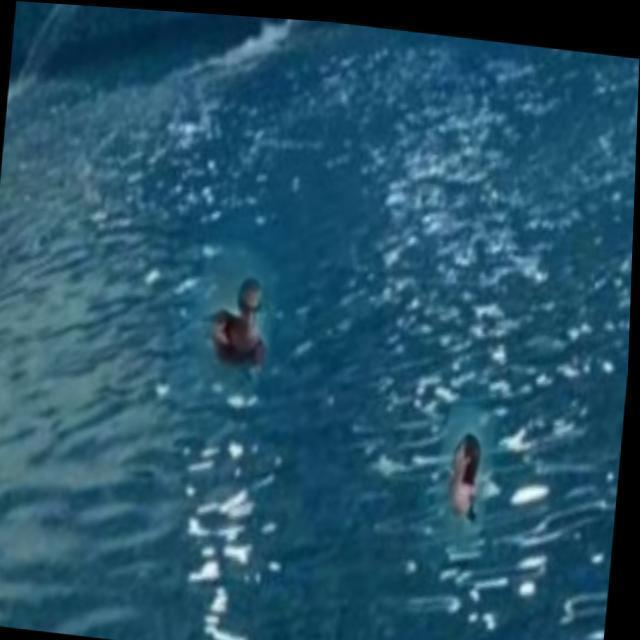swimming: (196, 266, 271, 388), (436, 422, 493, 526)
